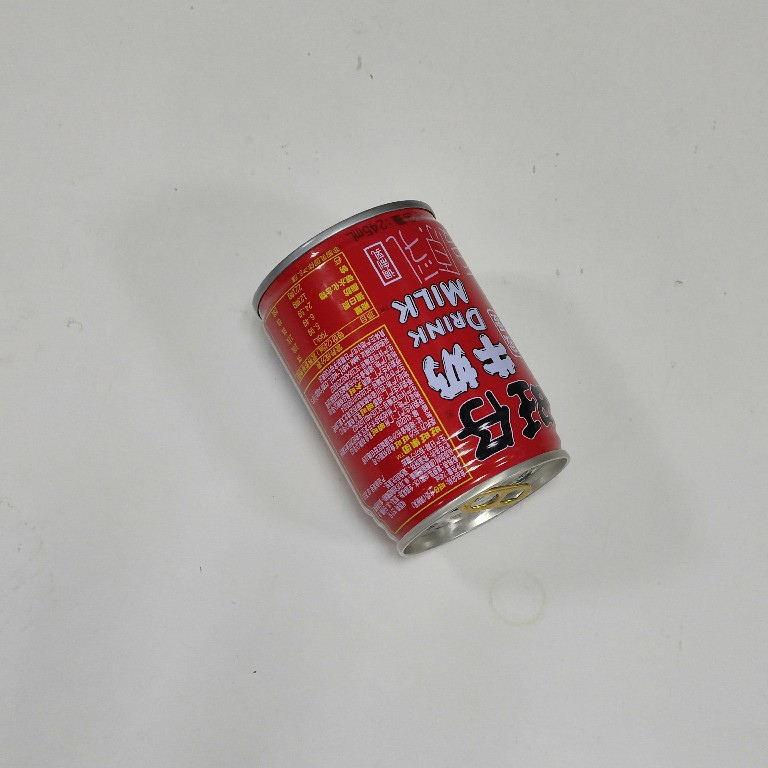can: (248, 194, 575, 562)
